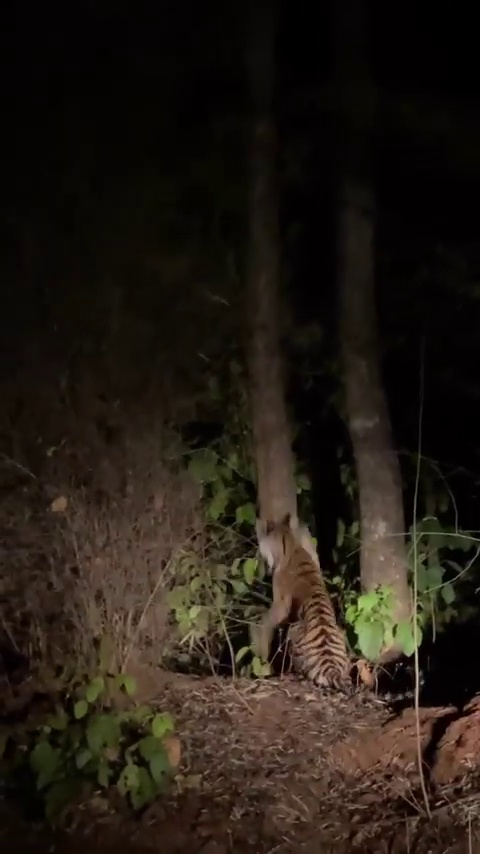Tiger: (250, 511, 425, 703)
